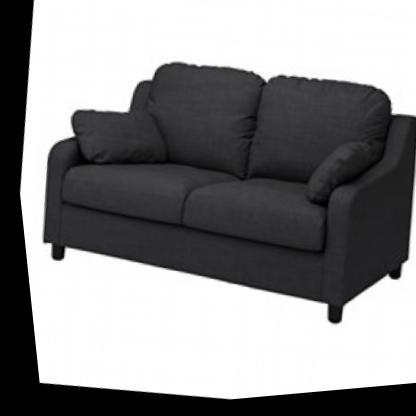Sofa: (2, 0, 416, 375)
